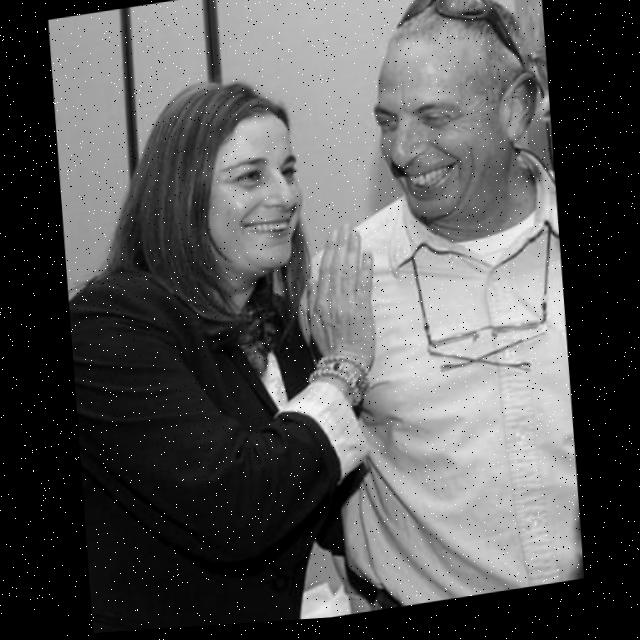face: (360, 0, 548, 249), (175, 86, 313, 298)
